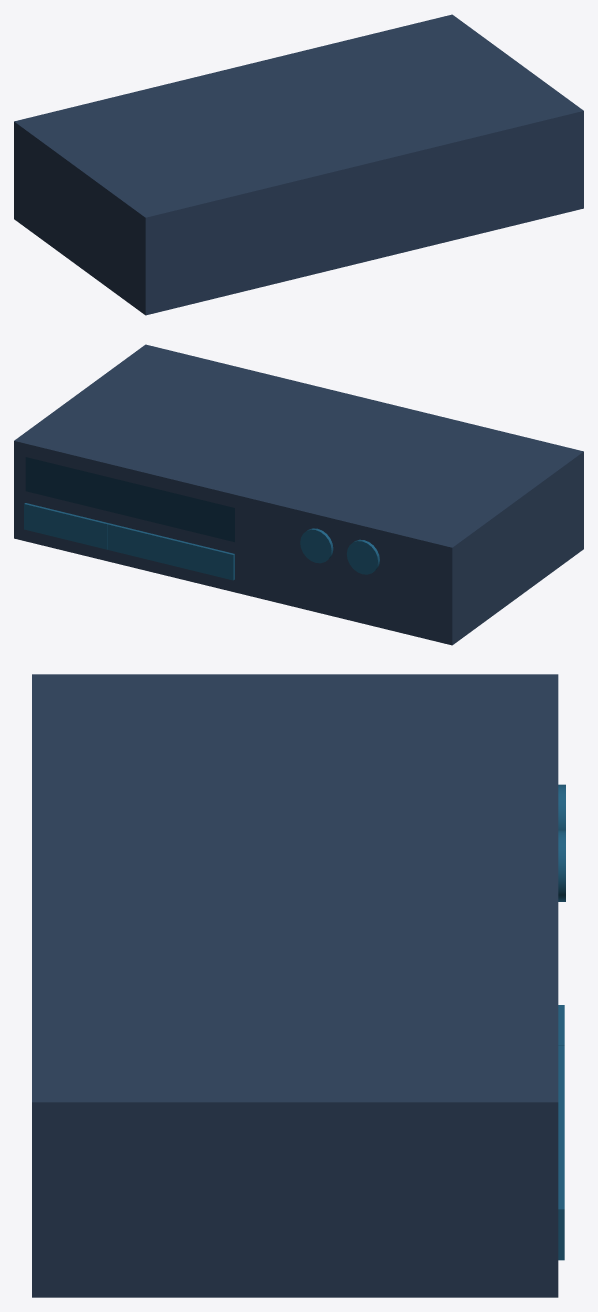
File: cajaCable.obj
3 renders of one model, top to bottom at view 1: azimuth 30°, elevation 25°; view 2: azimuth 150°, elevation 25°; view 3: azimuth 270°, elevation 25°, orthographic. The views are drawn at different scales.
Parts seen in each view (by area): view 1: pCube20; view 2: pCube20; view 3: pCube20.
Part boxes in pixels (x1,y1,x2,y2): pCube20: (14, 14, 583, 315); pCube20: (14, 344, 583, 645); pCube20: (32, 674, 565, 1297).
Bounding box in the file's own units: 54.77 × 11.67 × 28.89.
Materials: 3 (3 with a texture image).
